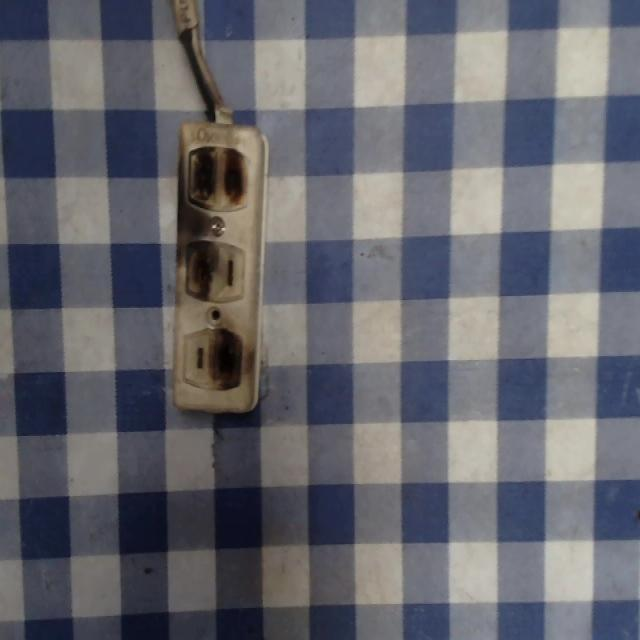-: (183, 142, 252, 214), (208, 326, 246, 394), (180, 234, 220, 298)
